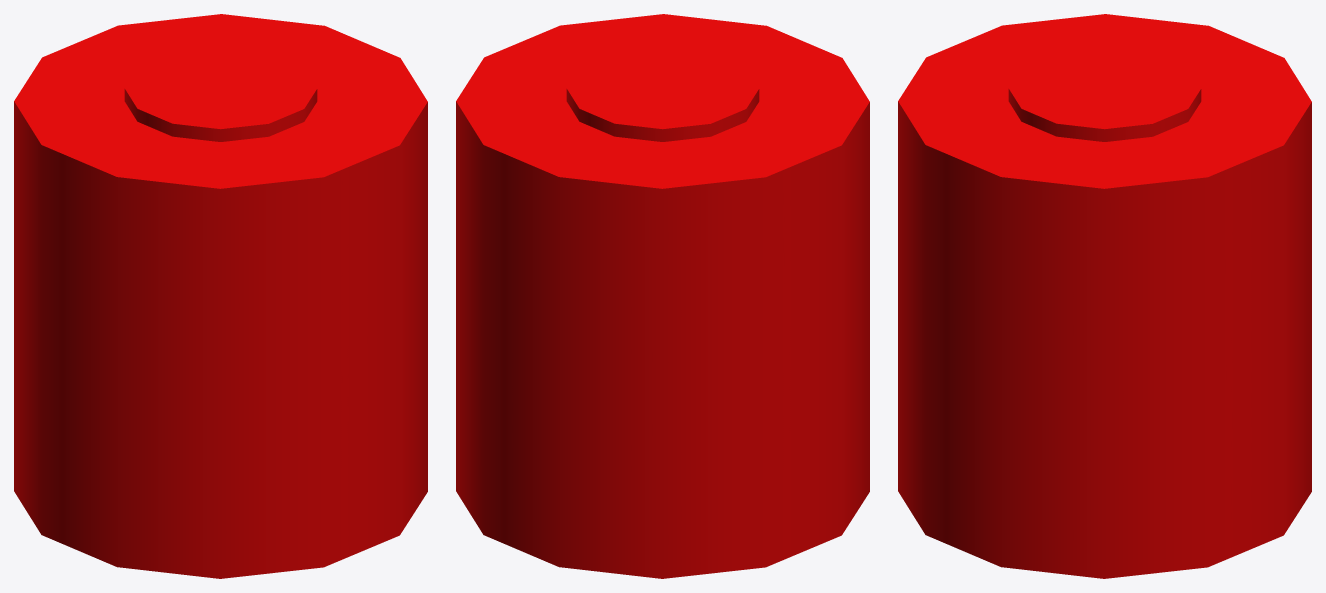
The model's file is 2ee8d041-3466-4cfe-80ec-0d32e7996232.glb.
3 views of the same model, side by side, from view 1: azimuth 30°, elevation 25°; view 2: azimuth 150°, elevation 25°; view 3: azimuth 270°, elevation 25° (orthographic).
Parts seen in each view (by area): view 1: 43, 43_1; view 2: 43, 43_1; view 3: 43, 43_1.
Part boxes in pixels (box(x1,y1,x2,y2)): 43: box(14, 89, 427, 578); 43_1: box(14, 14, 427, 188); 43: box(456, 89, 869, 578); 43_1: box(456, 14, 869, 188); 43: box(898, 89, 1311, 578); 43_1: box(898, 14, 1311, 188).
Bounding box in the file's own units: 1.47 × 1.58 × 1.47.
